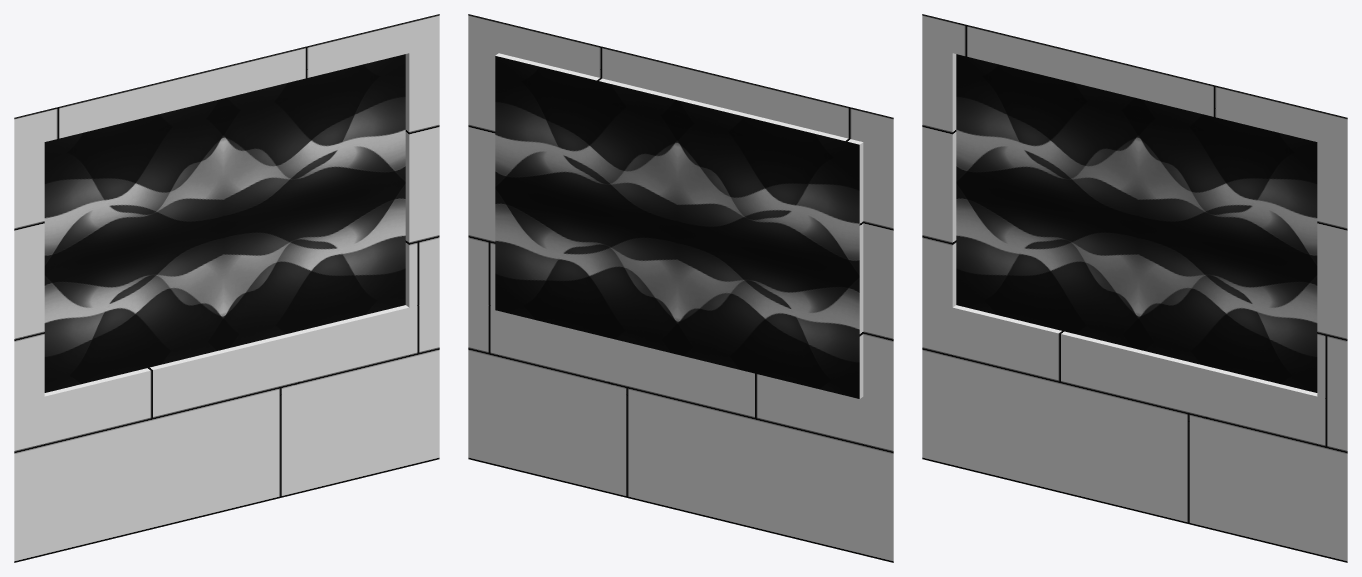
File: WallNiche01_1_350x350cm.FBX
3 views of the same model, side by side, from view 1: azimuth 30°, elevation 25°; view 2: azimuth 150°, elevation 25°; view 3: azimuth 330°, elevation 25° (orthographic).
Visible parts, largest first — view 1: WallNiche01_1_350x350cm; view 2: WallNiche01_1_350x350cm; view 3: WallNiche01_1_350x350cm.
Boxes of the visible parts, x1=… form: WallNiche01_1_350x350cm: x1=14, y1=14, x2=439, y2=562; WallNiche01_1_350x350cm: x1=468, y1=14, x2=893, y2=562; WallNiche01_1_350x350cm: x1=922, y1=14, x2=1347, y2=562.
Bounding box in the file's own units: 350 × 350 × 5.
